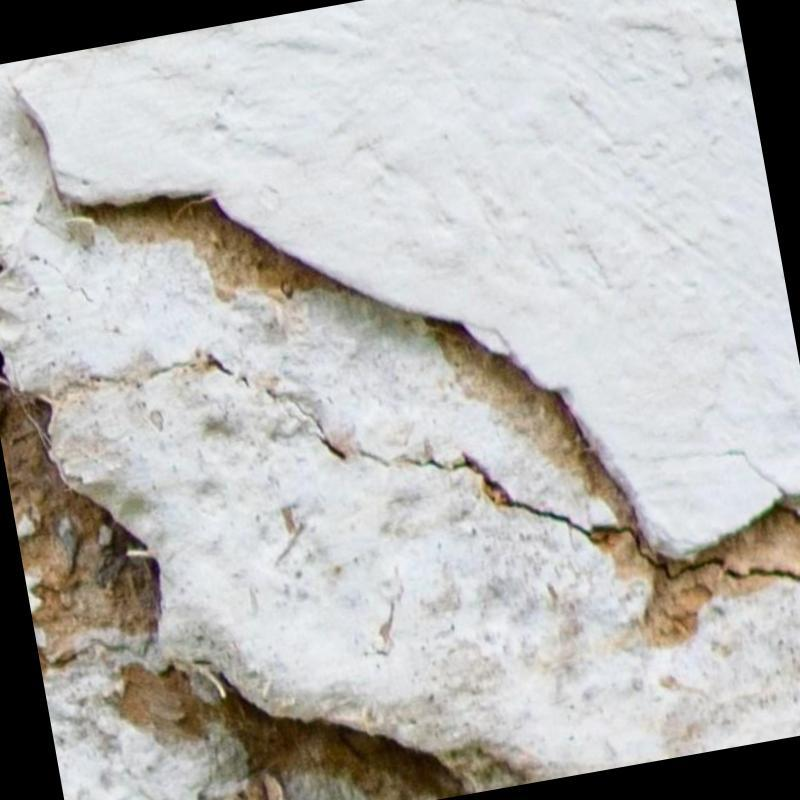pothole: (38, 350, 800, 581)
